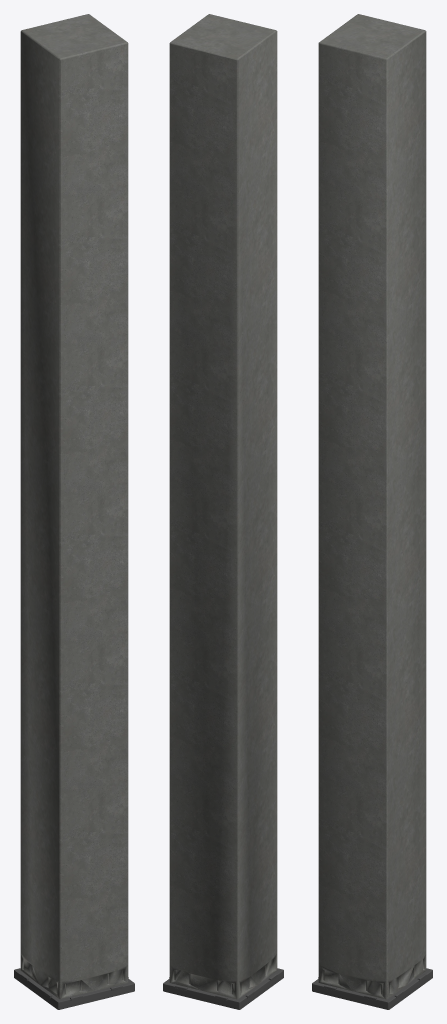
The model's file is column.glb.
The picture shows the model from 3 angles, left to right: view 1: azimuth 30°, elevation 25°; view 2: azimuth 150°, elevation 25°; view 3: azimuth 330°, elevation 25°; orthographic projection.
Visible parts, largest first — view 1: body; view 2: body; view 3: body.
Boxes of the visible parts, x1,y1,x2,y2 form: body: [14, 14, 134, 1009]; body: [163, 14, 283, 1009]; body: [312, 14, 432, 1009].
Bounding box in the file's own units: 0.7366 × 8.5 × 0.7366.
2 materials, 1 textured.
